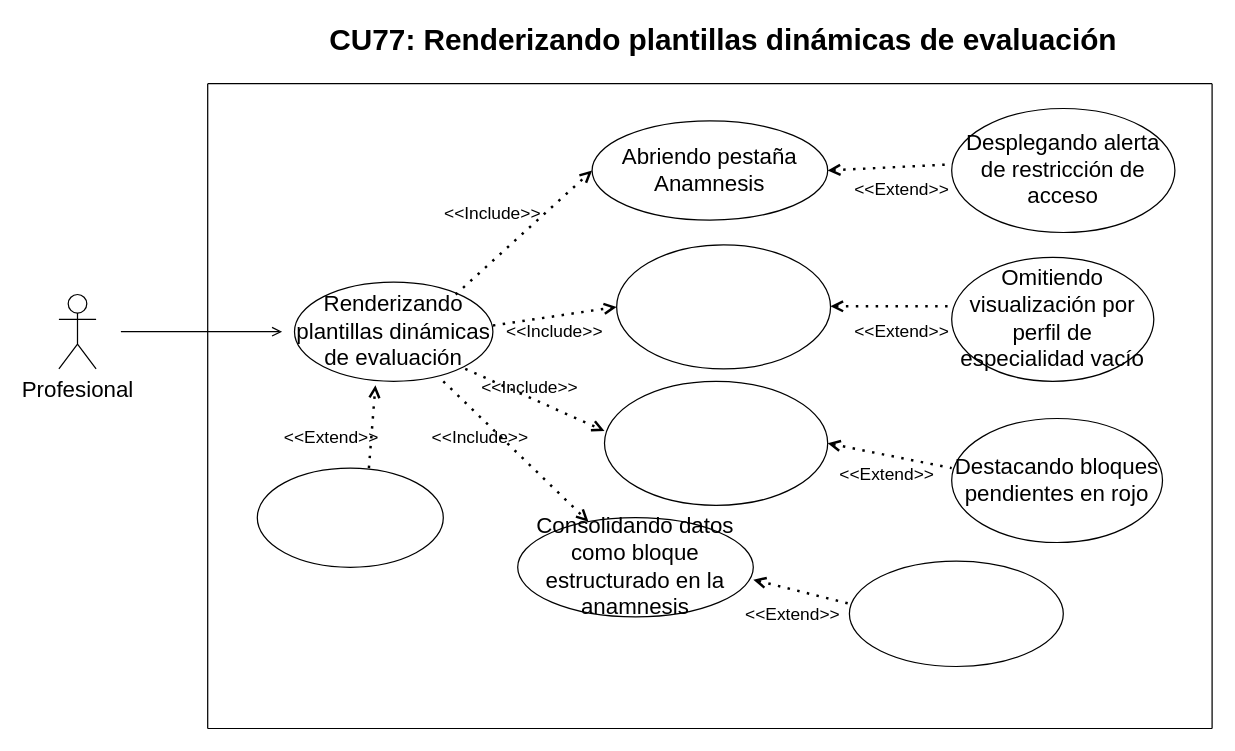
This 1235x751 diagram has some shape labels left out. Each missing label, with the centre of its shape:
Almacenando plantilla en cache local: point (955, 613)
Guardando formulario bajo estándares clínicos: point (349, 517)
Identificando especialidad del perfil activo y desplegando plantilla: point (723, 306)
Ingresando información medica en campos habilitados: point (715, 442)
